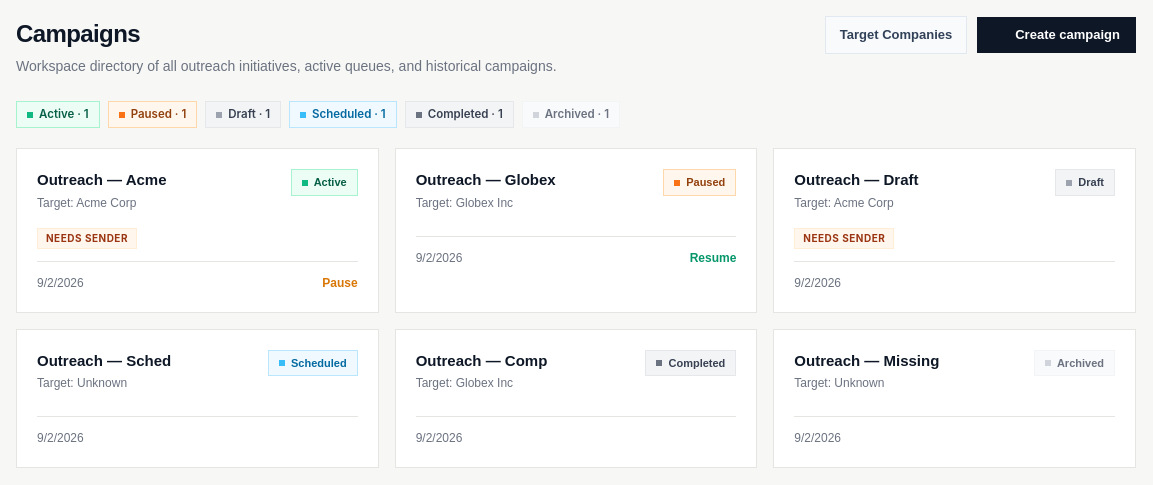
Test case: CampaignsIndexComponent › filters campaigns by status
expect the heading "Outreach — Acme" is shown: met, box top-left (37, 171), bottom-right (166, 188)
# Click /Active/ filter
Click the button "Active · 1" at [58, 115], box top-left (16, 101), bottom-right (100, 128)
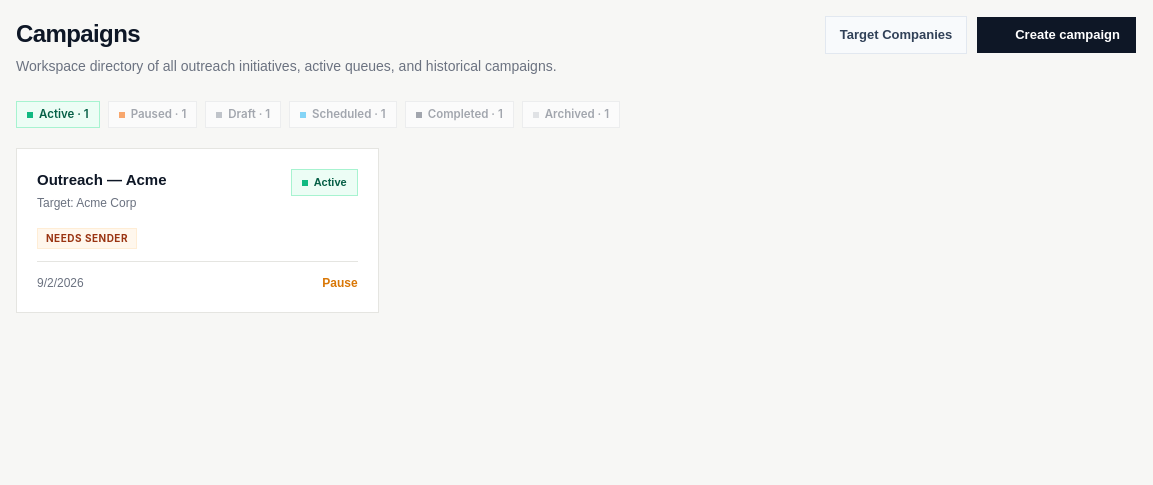
expect the heading "Outreach — Acme" is shown: met, box top-left (37, 171), bottom-right (166, 188)
expect the heading "Outreach — Globex" is gone: met
